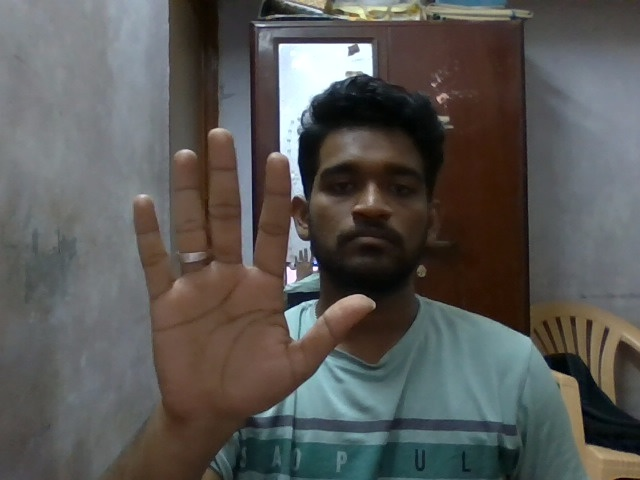Hello: (119, 120, 380, 433)
